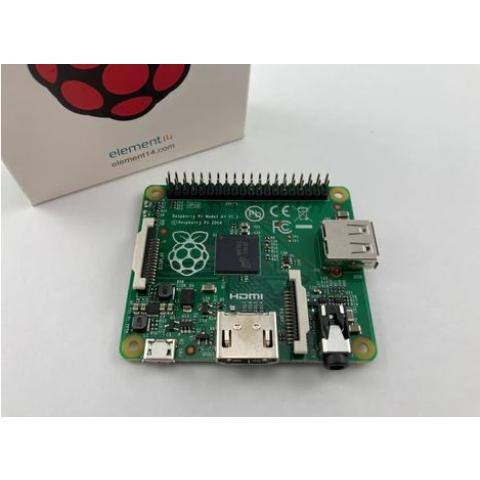Raspberry-Pi-1-Model-A-: (108, 163, 390, 381)
